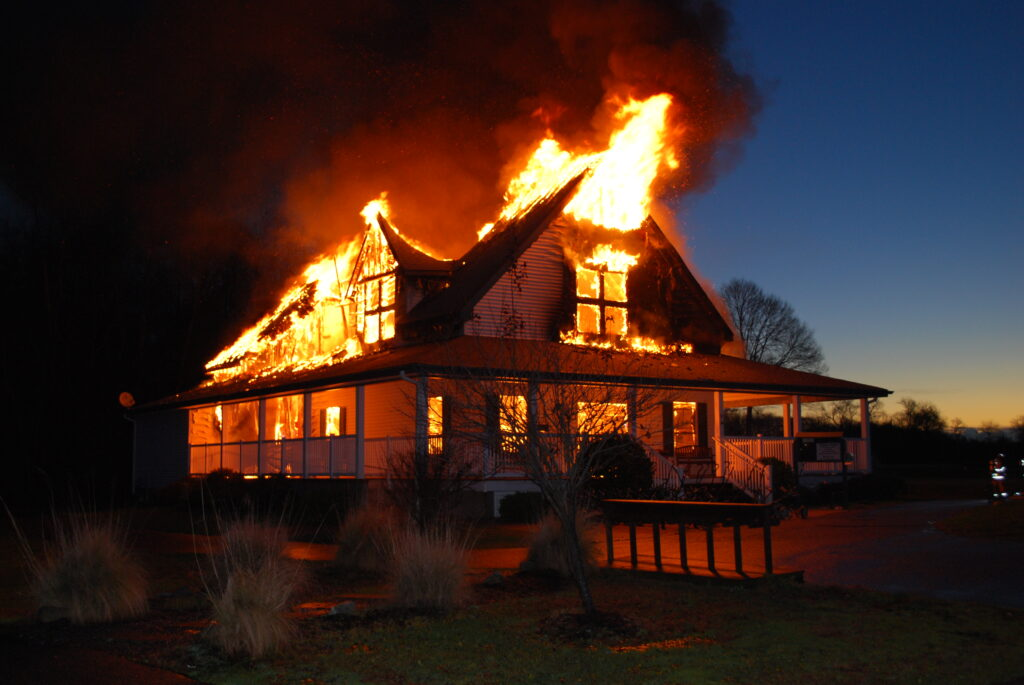fire: (176, 57, 740, 501)
